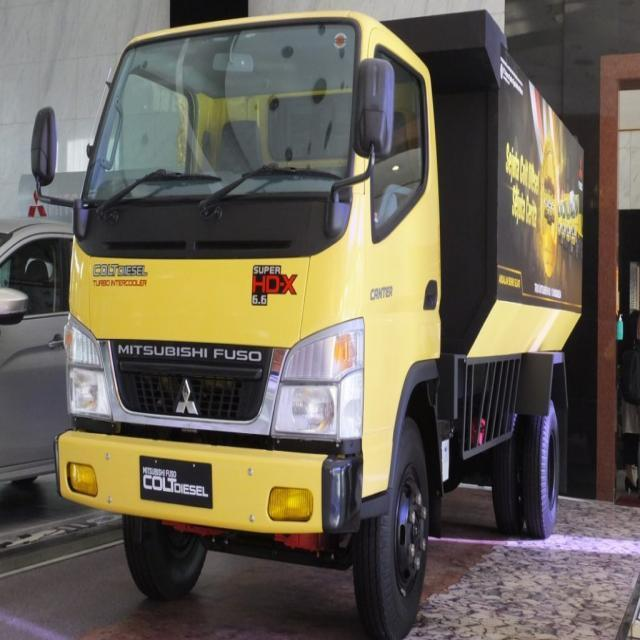truck: (29, 10, 582, 640)
